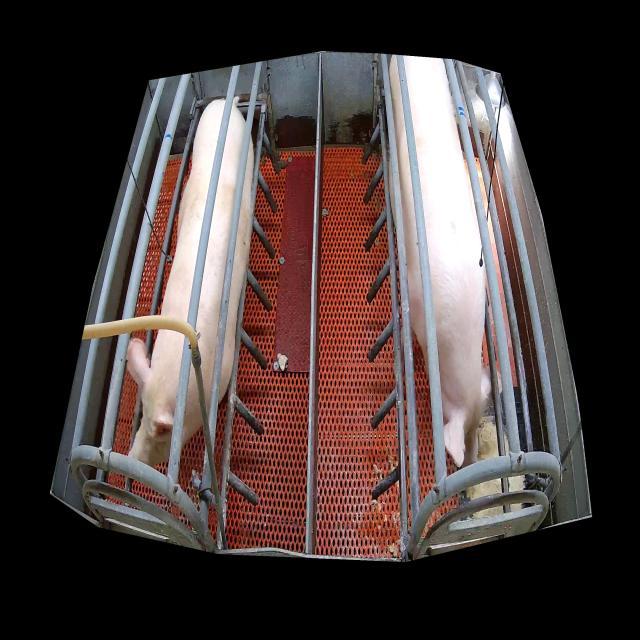pig: (126, 98, 254, 467), (389, 56, 493, 469)
